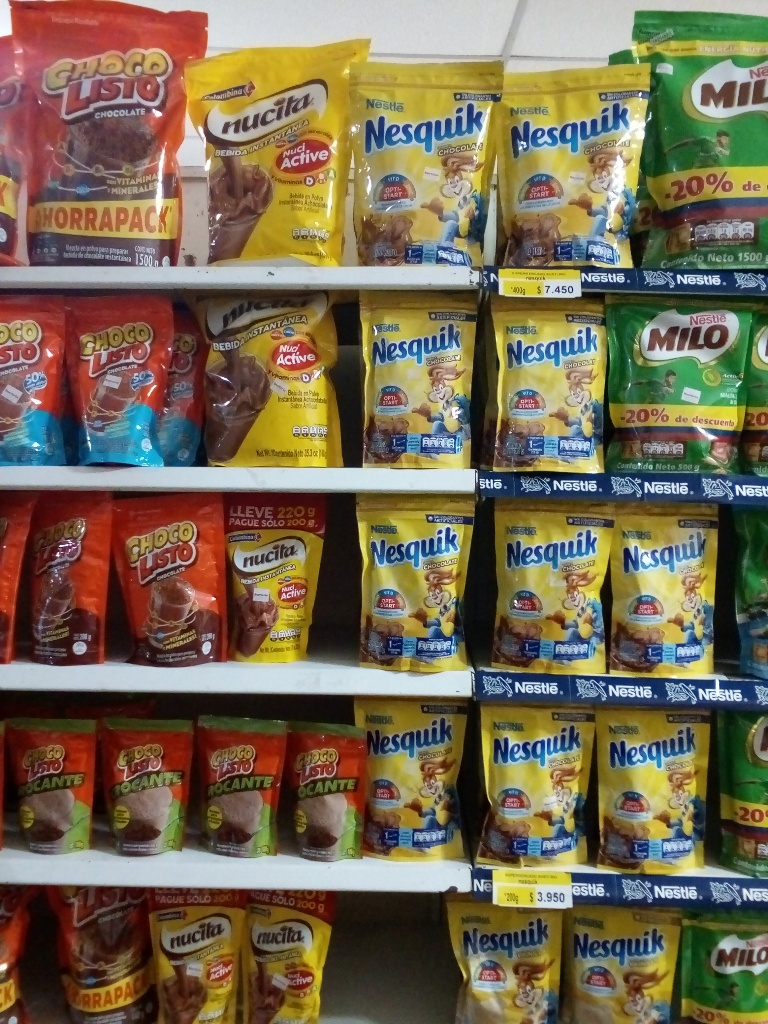COL0170102DYP10000: (1, 709, 97, 845)
COL0170103DYP1,500: (11, 0, 202, 257)
COL0170103DYP20000: (111, 490, 233, 670)
COL0170103DYP40000: (49, 870, 153, 1022)
COL0170104DYP20000: (66, 291, 191, 468)
COL0170203DYP50000: (604, 279, 751, 469)
COL0170305DYP20000: (353, 281, 489, 472)
COL0170306DYP20000: (451, 894, 564, 1021)
